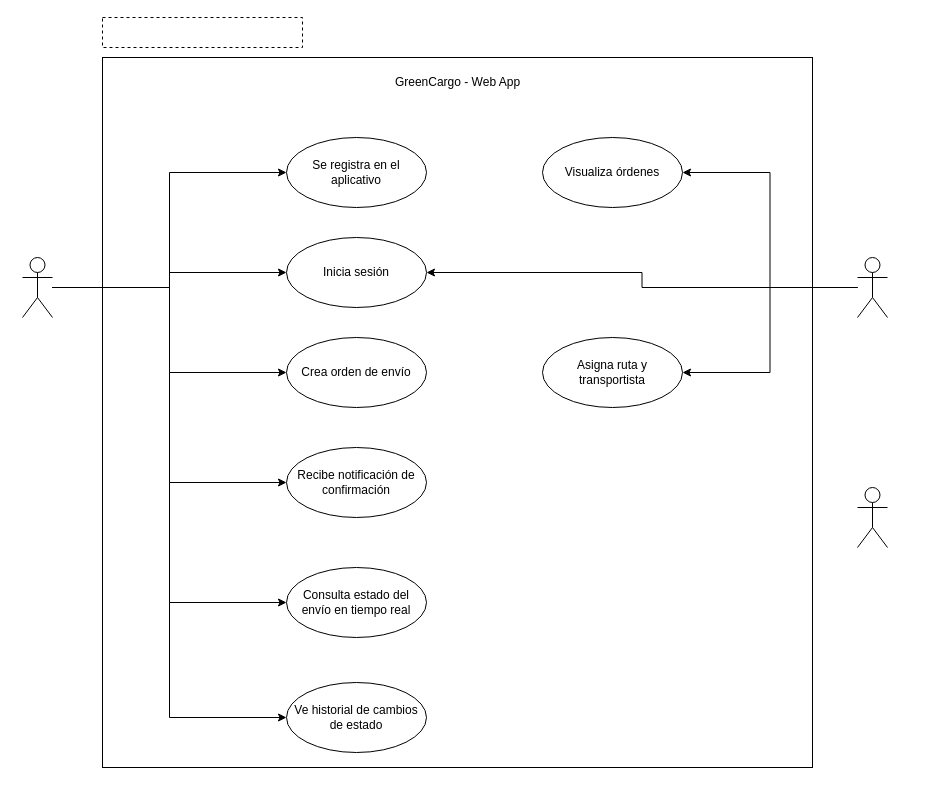
This 927x785 diagram has some shape labels left out. The shapes that lost their labels are listed below. From the top down, each one's centre as x and y in pixels, then its label:
At (202,32): "Diagrama de casos de uso".
At (37,287): "Usuario".
At (872,287): "Administrador".
At (872,517): "Transportista".
